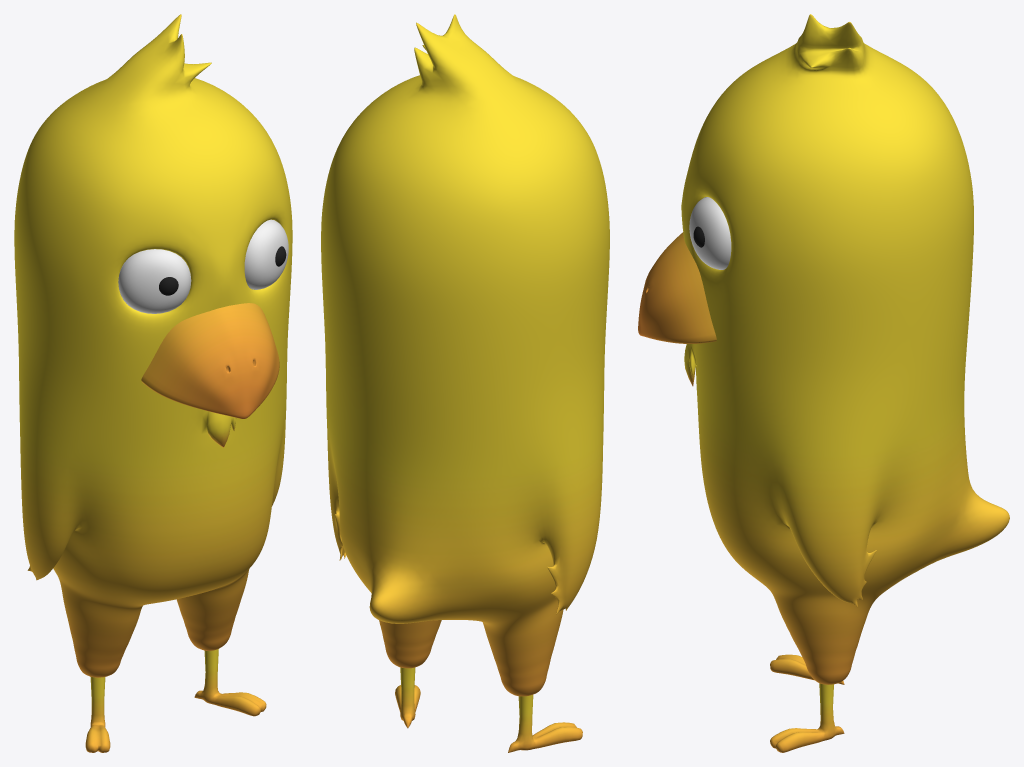
The model's file is Chicky.FBX.
3 views of the same model, side by side, from view 1: azimuth 30°, elevation 25°; view 2: azimuth 150°, elevation 25°; view 3: azimuth 270°, elevation 25° (orthographic). The views are drawn at different scales.
Visible parts, largest first — view 1: chicky; view 2: chicky; view 3: chicky.
Part boxes in pixels (bbox=[...]): chicky: bbox=[14, 14, 292, 752]; chicky: bbox=[321, 14, 609, 752]; chicky: bbox=[638, 14, 1009, 752].
Bounding box in the file's own units: 52.58 × 141 × 67.25.
Materials: 3 (1 with a texture image).
